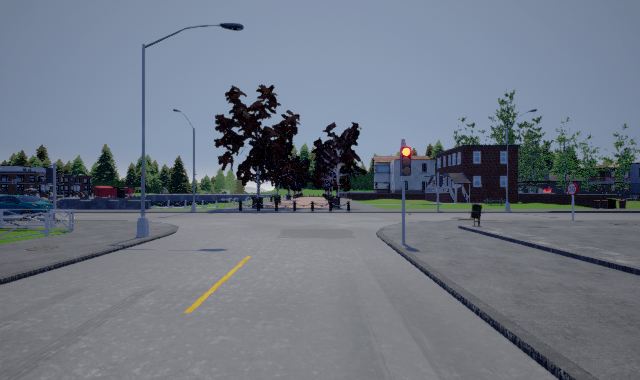traffic_light: (400, 146, 411, 175)
traffic_sign: (567, 183, 578, 195)
vehicle: (1, 194, 57, 213)
